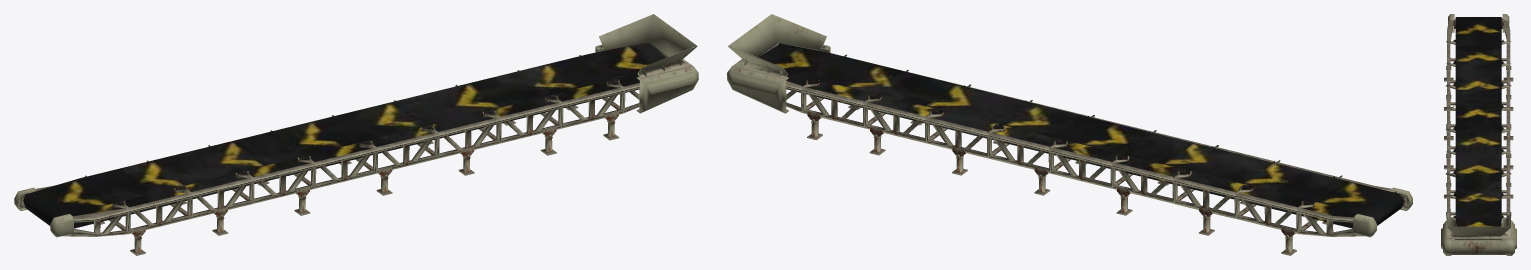
The model's file is conveyor.zfix-v14.lod0.glb.
The picture shows the model from 3 angles, left to right: view 1: azimuth 30°, elevation 25°; view 2: azimuth 150°, elevation 25°; view 3: azimuth 270°, elevation 25°; orthographic projection. The views are drawn at different scales.
Parts seen in each view (by area): view 1: Conveyor_Belt_ConveyorBelt_Mat_0, Conveyor_Side_low2_Conveyor_Mat_0, Conveyor_Funnel_low1_Scaff_Funnel_Mat_0; view 2: Conveyor_Belt_ConveyorBelt_Mat_0, Conveyor_Side_low2_Conveyor_Mat_0, Conveyor_Funnel_low1_Scaff_Funnel_Mat_0; view 3: Conveyor_Belt_ConveyorBelt_Mat_0, Conveyor_Side_low2_Conveyor_Mat_0, Conveyor_Funnel_low1_Scaff_Funnel_Mat_0.
Part boxes in pixels (x1,y1,x2,y2): Conveyor_Belt_ConveyorBelt_Mat_0: [23, 42, 667, 228]; Conveyor_Side_low2_Conveyor_Mat_0: [19, 49, 667, 255]; Conveyor_Funnel_low1_Scaff_Funnel_Mat_0: [14, 14, 698, 237]; Conveyor_Belt_ConveyorBelt_Mat_0: [757, 43, 1403, 228]; Conveyor_Side_low2_Conveyor_Mat_0: [759, 43, 1408, 255]; Conveyor_Funnel_low1_Scaff_Funnel_Mat_0: [727, 14, 1412, 237]; Conveyor_Belt_ConveyorBelt_Mat_0: [1455, 17, 1501, 239]; Conveyor_Side_low2_Conveyor_Mat_0: [1444, 18, 1513, 240]; Conveyor_Funnel_low1_Scaff_Funnel_Mat_0: [1441, 14, 1516, 255].
Size of the model in its own units: 42 by 4.45 by 5.89.
Materials: 3 (3 with a texture image).
